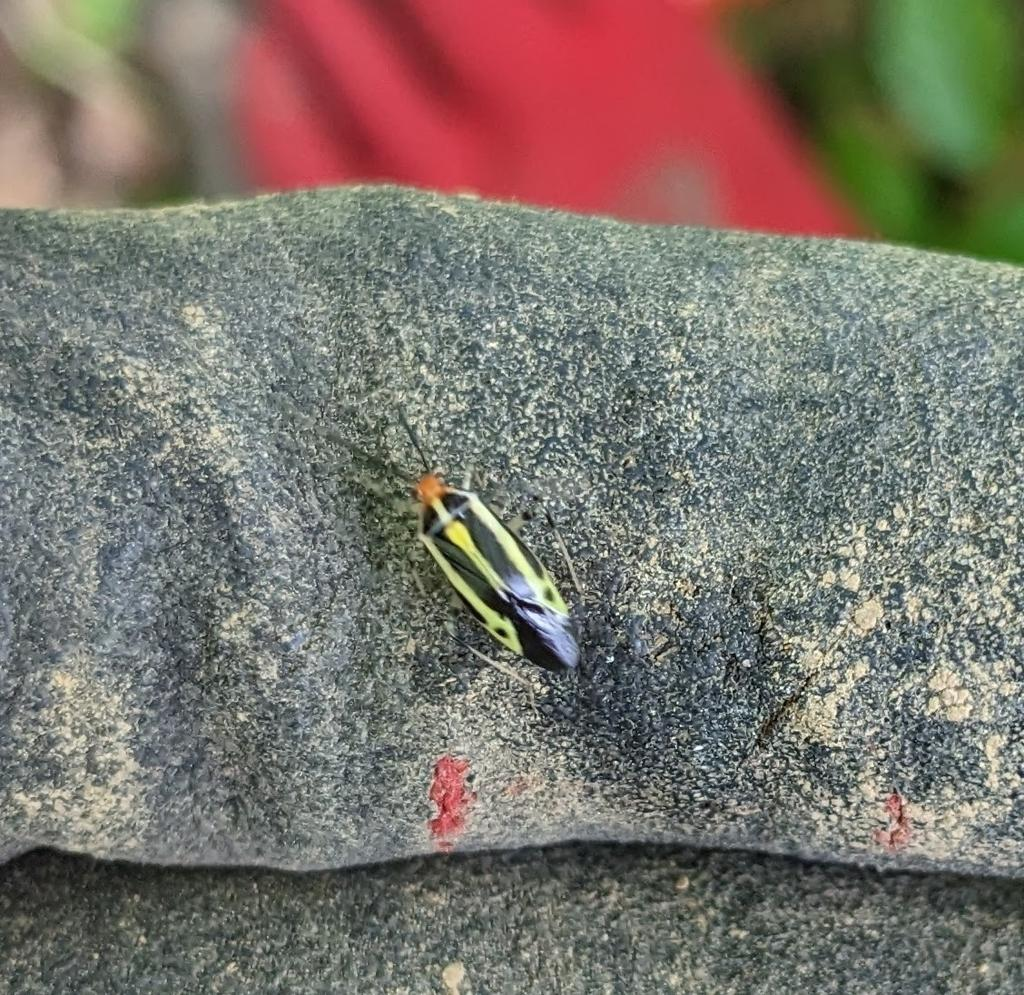plant_bugs: (237, 359, 720, 773)
